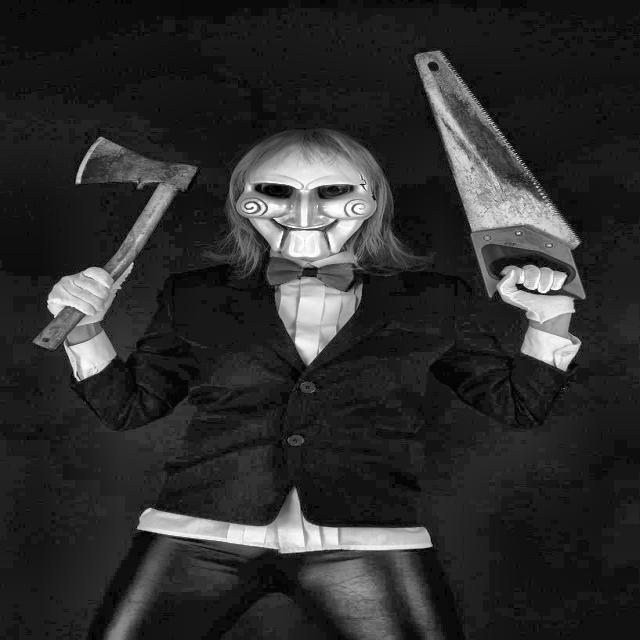kapak: (27, 122, 212, 365)
